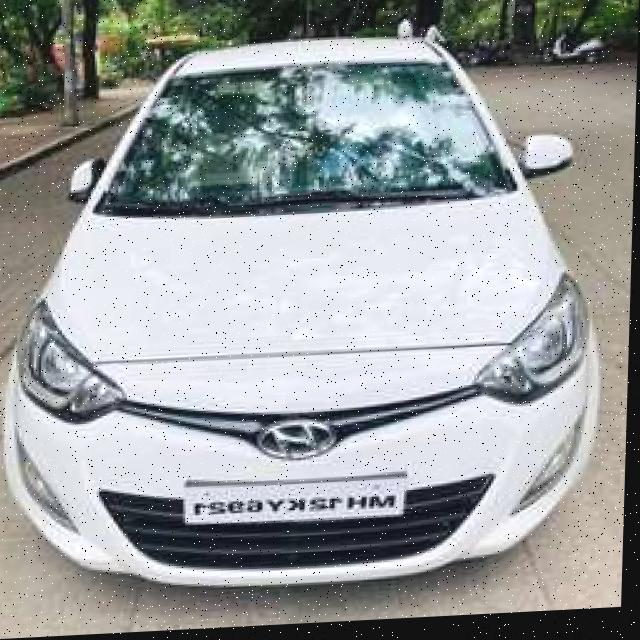plate: (189, 481, 408, 529)
